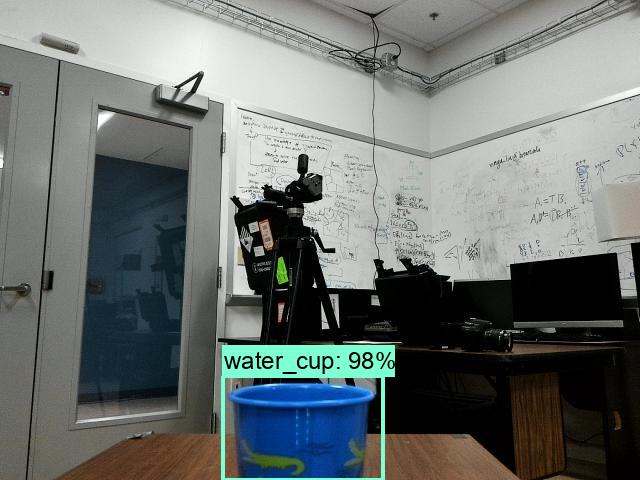water_cup: (223, 378, 376, 478)
